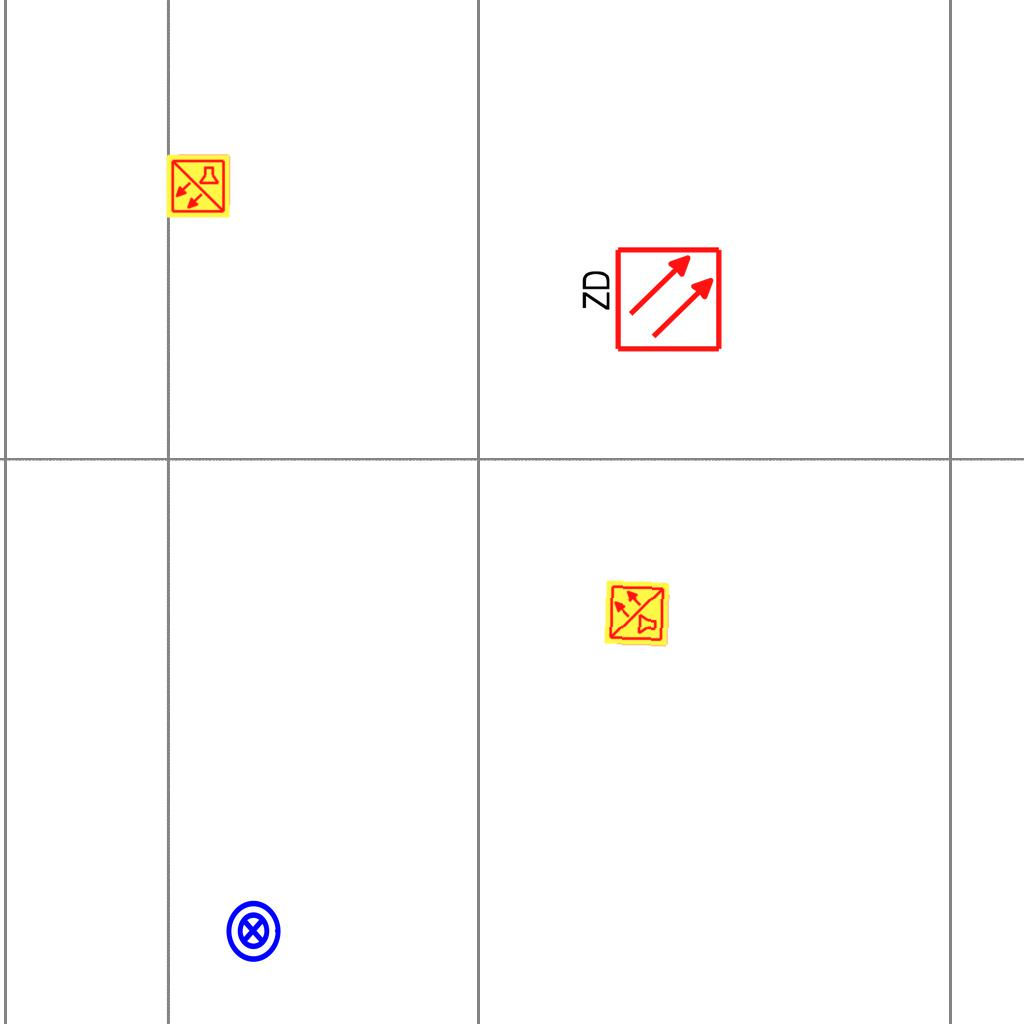OKW_Multisensormelder_(Kombination_optischer_Rauch-Kahlenmonoxid_Waerme-Melder): (602, 578, 672, 648), (165, 153, 231, 219)
Taster_beleuchtet: (220, 898, 286, 964)
ZD_Melder_in_Zwischendecke_mit_Revisionsoeffnung_mind_40_x_40_cm: (575, 244, 724, 358)
